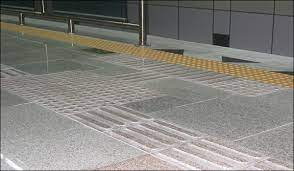guide_blocks: (1, 68, 159, 118)
